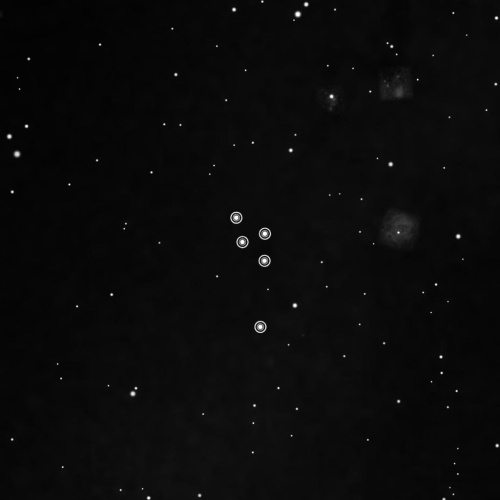delphinus: (224, 205, 276, 341)
